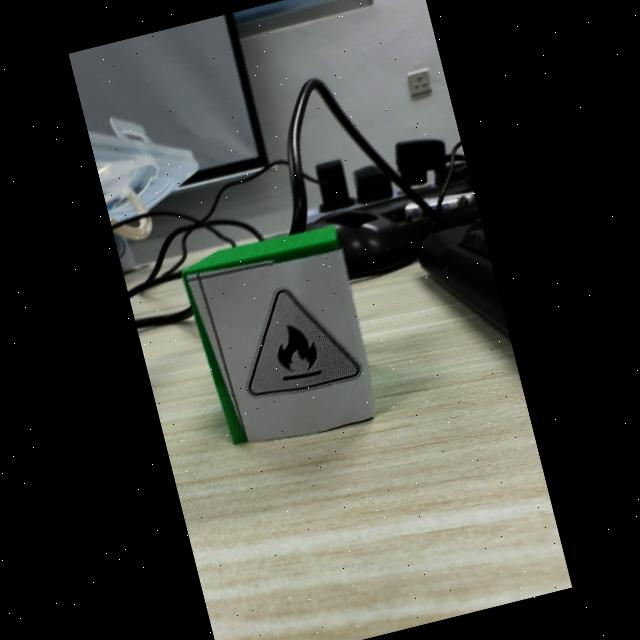Fire: (249, 290, 359, 395)
